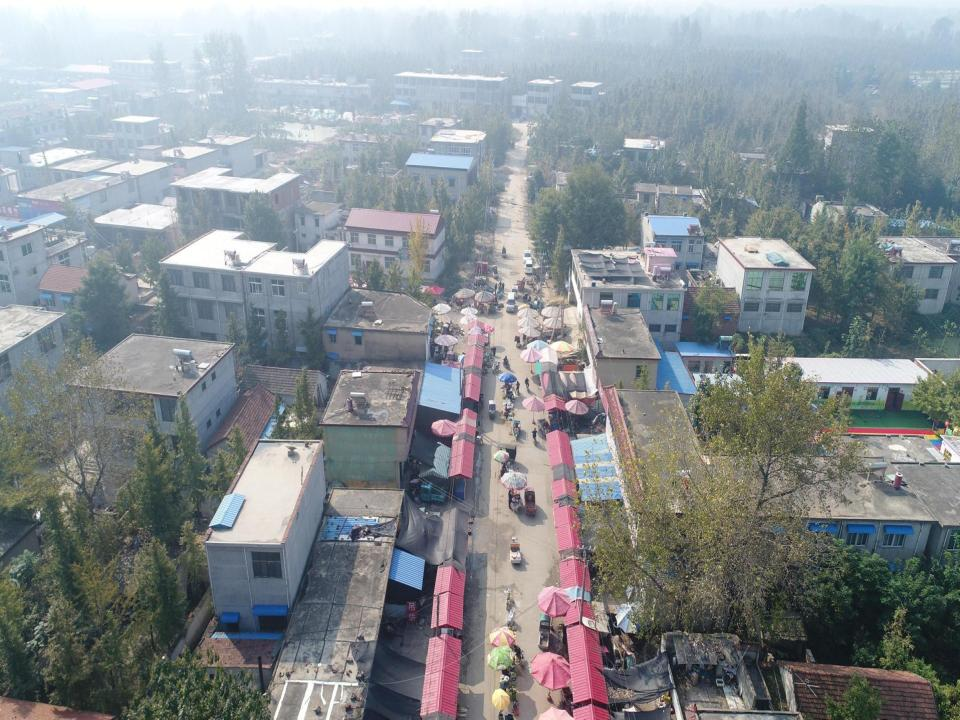car: (524, 258, 535, 274), (522, 249, 532, 263)
van: (505, 290, 517, 314)
